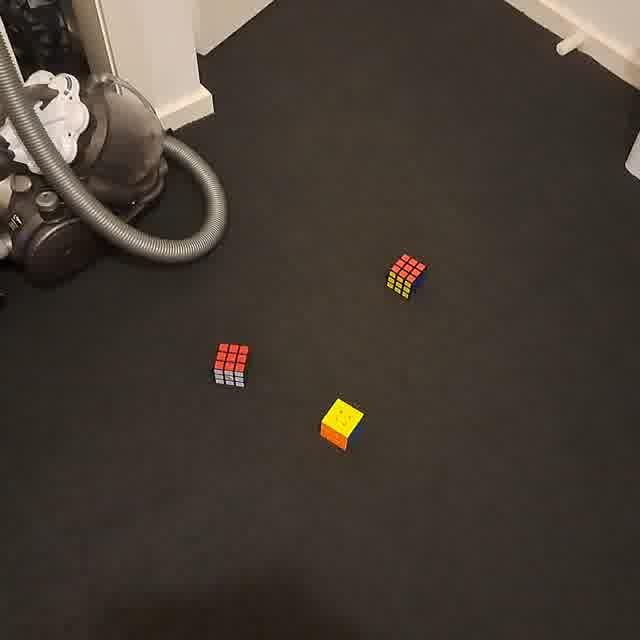rubix_cube: (316, 396, 368, 454), (384, 252, 429, 301), (212, 342, 252, 393)
